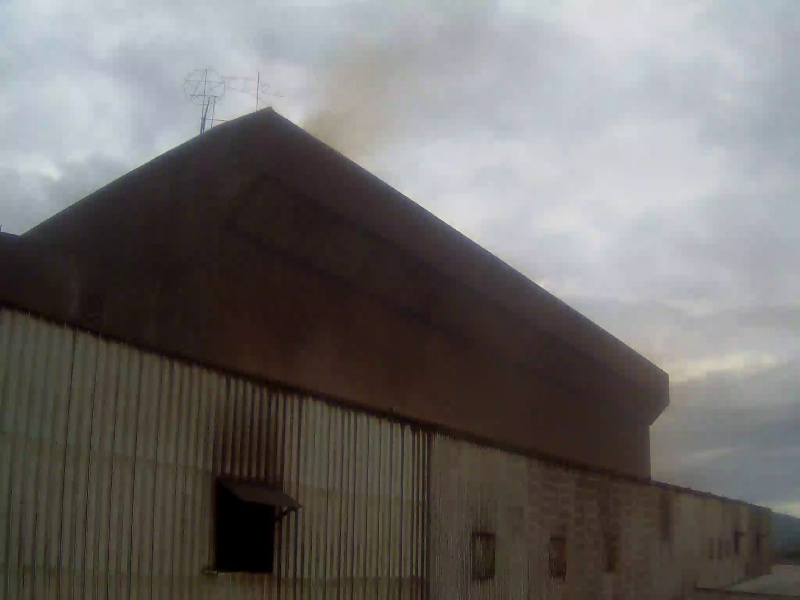bom: (4, 9, 268, 168)
ruim: (270, 11, 699, 484)
